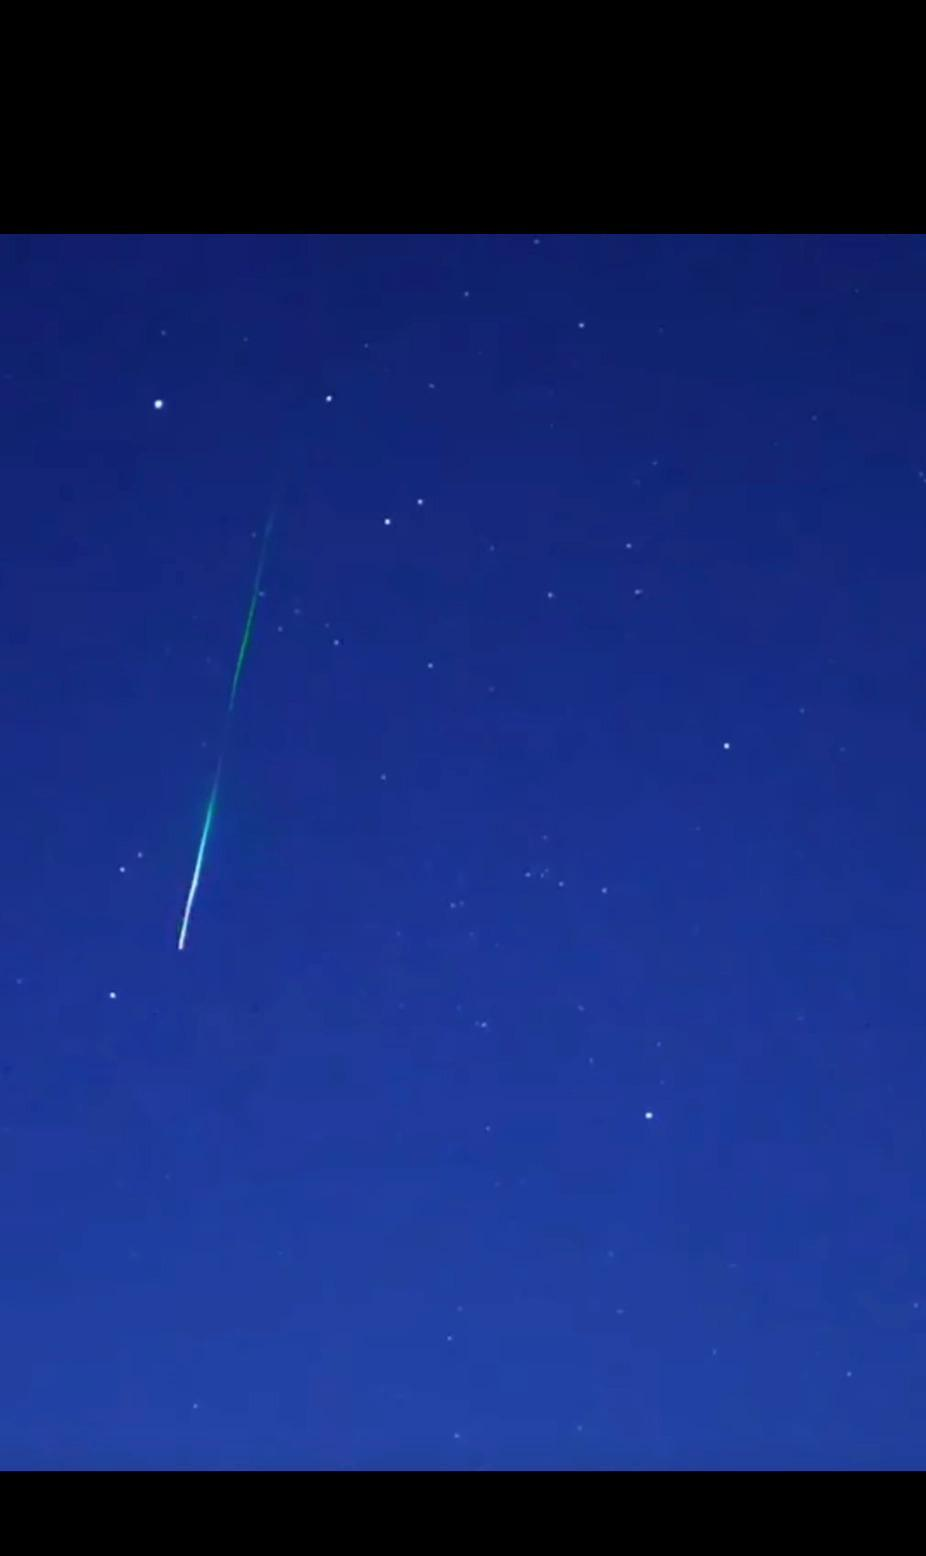meteorite: (161, 527, 302, 977)
